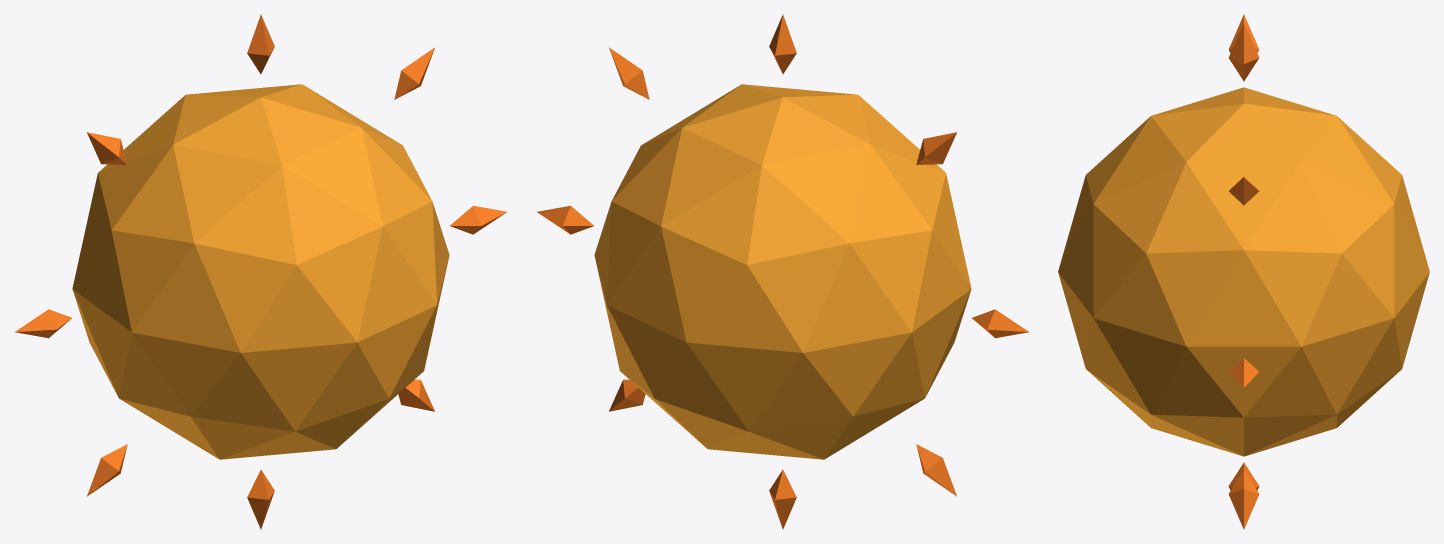
File: space-sun.glb
3 views of the same model, side by side, from view 1: azimuth 30°, elevation 25°; view 2: azimuth 150°, elevation 25°; view 3: azimuth 270°, elevation 25° (orthographic). The views are drawn at different scales.
Parts seen in each view (by area): view 1: sun; view 2: sun; view 3: sun.
Part boxes in pixels (x1,y1,x2,y2): sun: (15, 14, 506, 529); sun: (537, 14, 1028, 529); sun: (1058, 14, 1429, 529).
Size of the model in its own units: 14.76 by 14.76 by 10.
